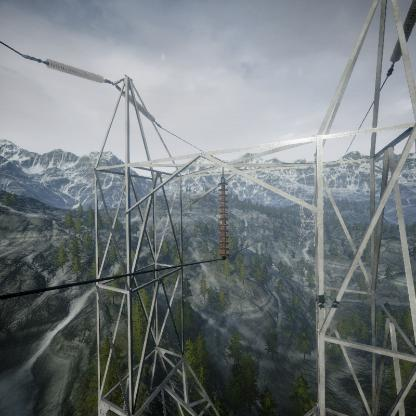insulator: (30, 54, 111, 84), (389, 0, 416, 66), (216, 177, 231, 258)
